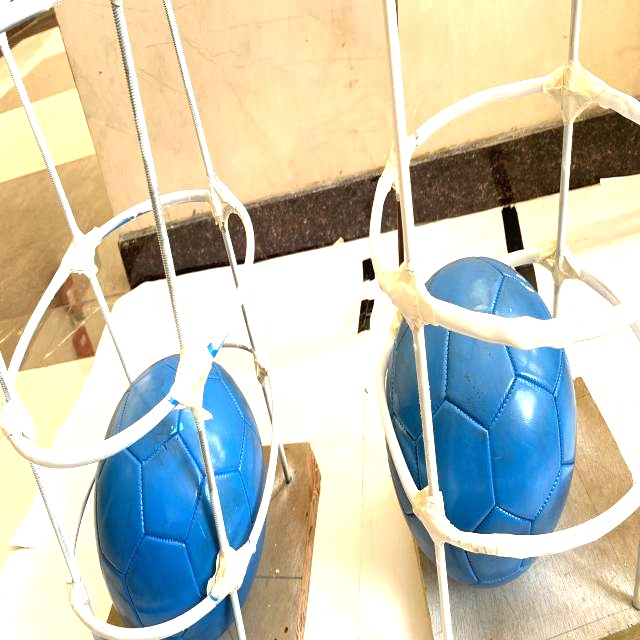blue_ball: (366, 254, 588, 603), (80, 339, 274, 640)
silo: (0, 0, 313, 640), (354, 0, 640, 640)
